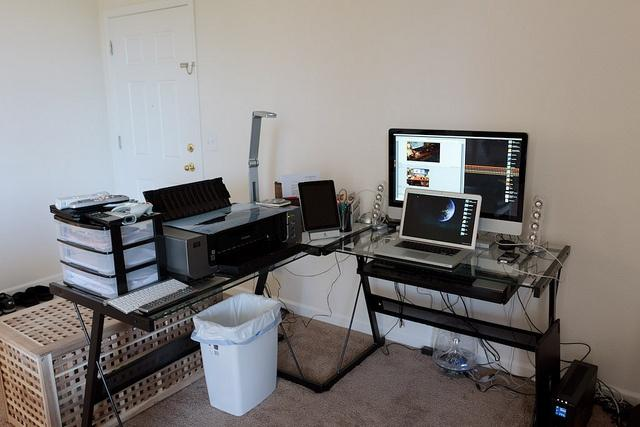AIO PC-Monitor-TV: (386, 125, 528, 235)
Printer: (141, 176, 311, 280)
